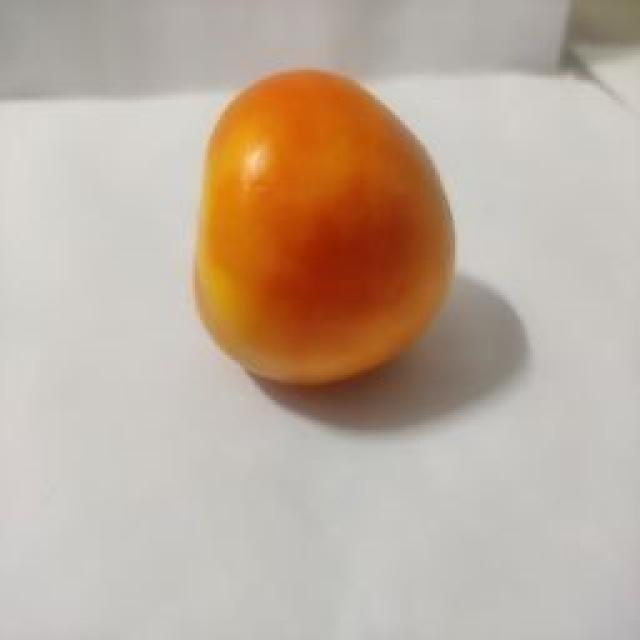unripe: (127, 125, 465, 500)
